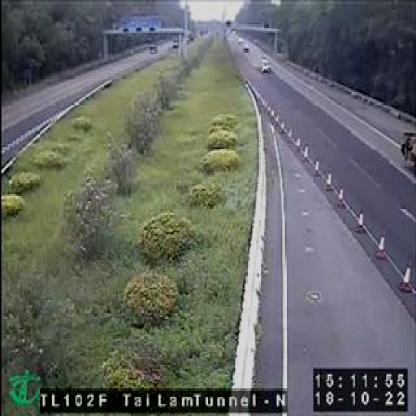Car: (258, 56, 272, 75)
